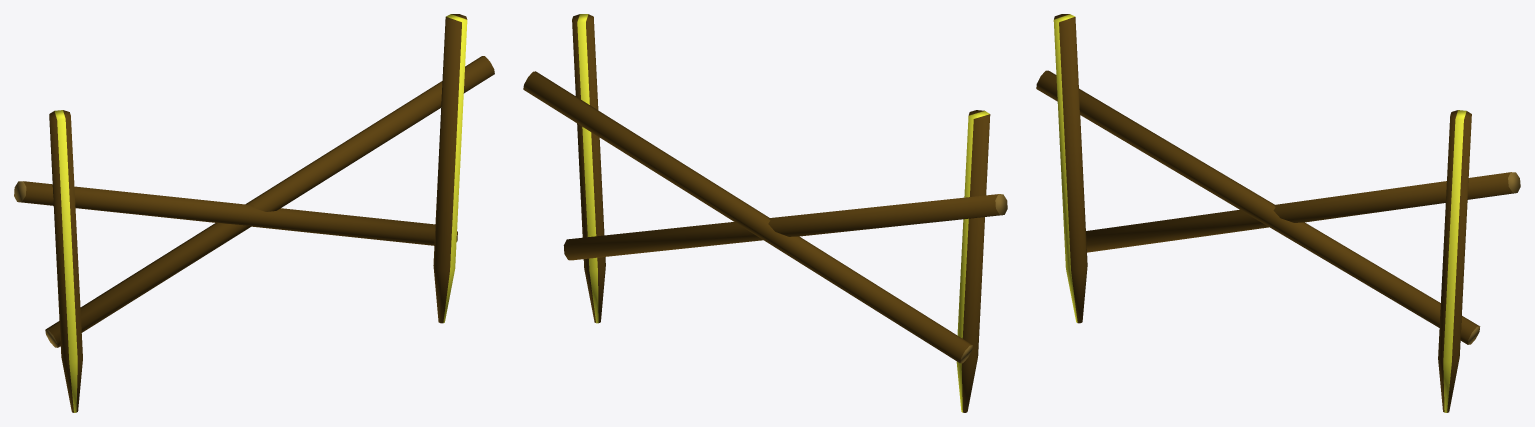
Rendered from blockade.fbx.
3 renders of one model, left to right at view 1: azimuth 30°, elevation 25°; view 2: azimuth 150°, elevation 25°; view 3: azimuth 330°, elevation 25°, orthographic.
Parts seen in each view (by area): view 1: Blockade2, Blockade1, Blockade0, Blockade3; view 2: Blockade2, Blockade1, Blockade3, Blockade0; view 3: Blockade1, Blockade2, Blockade3, Blockade0.
Part boxes in pixels (x1,y1,x2,y2): Blockade2: (45,56,494,347); Blockade1: (14,181,457,245); Blockade0: (433,14,467,323); Blockade3: (49,110,82,412); Blockade2: (523,71,972,363); Blockade1: (563,194,1007,260); Blockade3: (956,110,990,412); Blockade0: (572,14,605,323); Blockade1: (1036,70,1480,344); Blockade2: (1086,172,1520,252); Blockade3: (1053,14,1087,323); Blockade0: (1438,110,1471,412).
Bounding box in the file's own units: 15.97 × 1.27 × 9.64.
